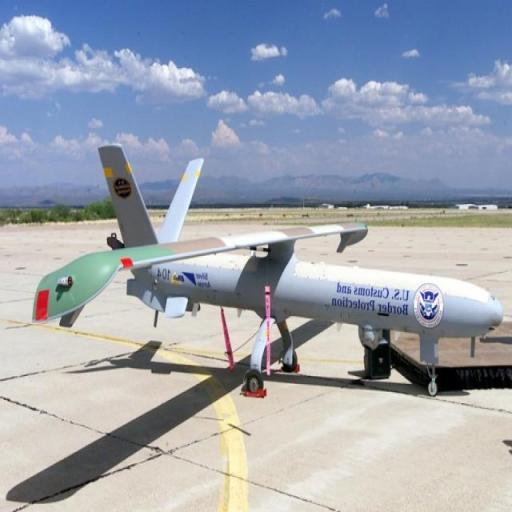uav: (28, 145, 506, 401)
